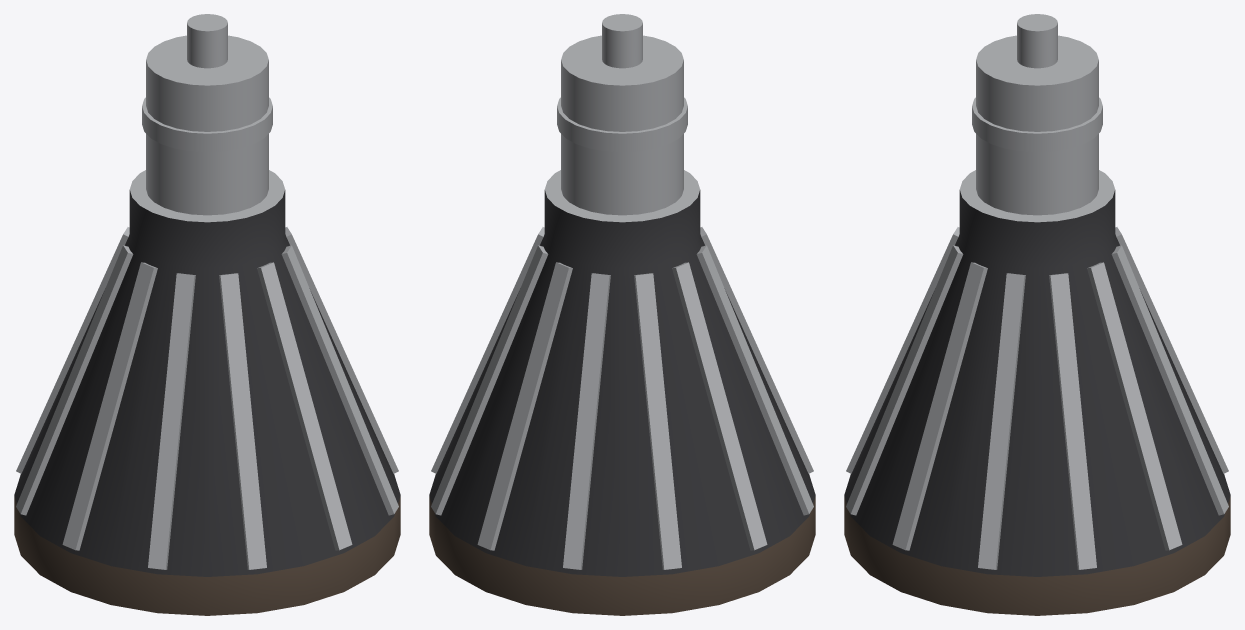
The model's file is Mercury_Capsule.fbx.
The picture shows the model from 3 angles, left to right: view 1: azimuth 30°, elevation 25°; view 2: azimuth 150°, elevation 25°; view 3: azimuth 270°, elevation 25°; orthographic projection.
Parts seen in each view (by area): view 1: Mercury_Capsule; view 2: Mercury_Capsule; view 3: Mercury_Capsule.
Part boxes in pixels (x1=…): Mercury_Capsule: x1=14, y1=14, x2=400, y2=615; Mercury_Capsule: x1=429, y1=14, x2=815, y2=615; Mercury_Capsule: x1=844, y1=14, x2=1230, y2=615.
Bounding box in the file's own units: 1.89 × 2.9 × 1.89.
